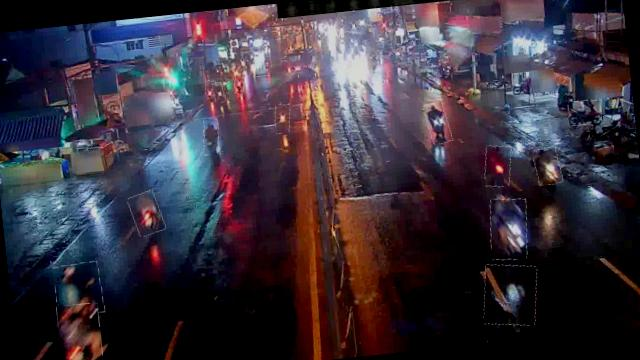Bike: (480, 262, 540, 328), (52, 262, 104, 318), (487, 197, 531, 262), (56, 303, 106, 360), (128, 192, 164, 238), (482, 144, 513, 189), (424, 102, 451, 146), (534, 146, 562, 186), (567, 99, 602, 127), (201, 118, 221, 156), (273, 104, 292, 135), (212, 82, 226, 104), (204, 81, 216, 103), (233, 74, 246, 94)
